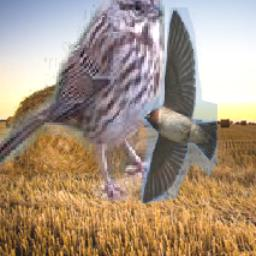Sparrow: (0, 0, 165, 202)
Swallow: (141, 7, 218, 203)
